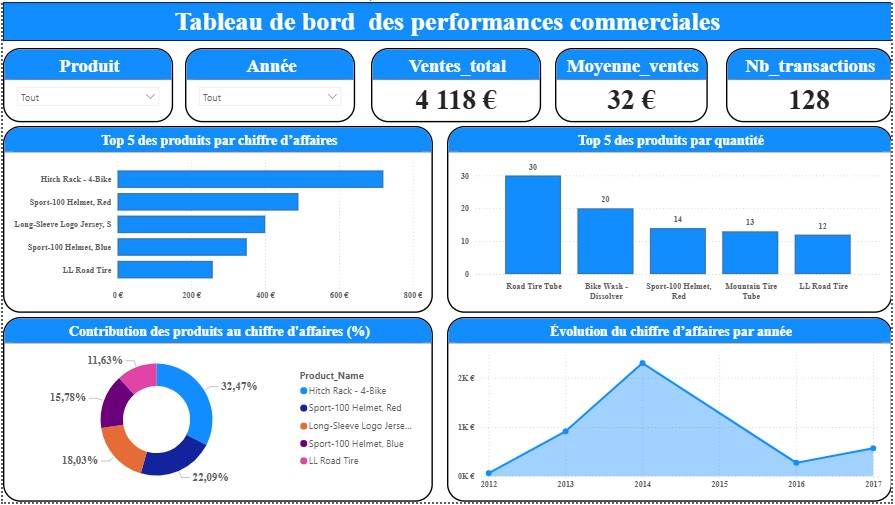

Layout of this report page (visuals, bound fields, positions):
{"tool":"powerbi","page":{"name":"Page 1","canvas":[1280,720],"ordinal":0},"visuals":[{"type":"card","title":"Nb_transactions","fields":{"Values":["Mesure.Nombre_Transactions"]},"box":[1041.1,66.2,239,106.6],"z":0},{"type":"card","title":" Ventes_total","fields":{"Values":["Mesure.Total_ventes"]},"box":[529.9,66.2,244.8,106.6],"z":1000},{"type":"card","title":"Moyenne_ventes","fields":{"Values":["Mesure.Moyenne_Ventes"]},"box":[794.9,66.2,220.3,106.6],"z":2000},{"type":"slicer","title":"Produit","fields":{"Values":["WorksSales.Product_Name"]},"box":[0,66.2,244.8,106.6],"z":3000},{"type":"slicer","title":"Année","fields":{"Values":["WorksSales.Année"]},"box":[262.1,66.2,244.8,106.6],"z":4000},{"type":"clusteredColumnChart","title":"Top 5 des produits par quantité","fields":{"Y":["Sum(WorksSales.Order_Qty)"],"Category":["WorksSales.Product_Name"]},"box":[639.4,178.6,640.8,269.3],"z":5000},{"type":"clusteredBarChart","title":"Top 5 des produits par chiffre d’affaires","fields":{"Y":["Mesure.Total_ventes"],"Category":["WorksSales.Product_Name"]},"box":[0,178.6,619.2,269.3],"z":6000},{"type":"textbox","box":[0,0,1280.2,56.2],"z":7000},{"type":"donutChart","title":"Contribution des produits au chiffre d''affaires (%)","fields":{"Category":["WorksSales.Product_Name"],"Y":["Mesure.Contribution_Ventes_%"]},"box":[0,453.6,619.2,266.4],"z":8000},{"type":"areaChart","title":"Évolution du chiffre d’affaires par année","fields":{"Category":["WorksSales.Année"],"Y":["Mesure.Total_ventes"]},"box":[639.4,453.6,640.8,266.4],"z":9000}]}

Visuals, with their boxes in screenshot pixels (x1, y1, x2, y2), scaled from the page's 1280x720 canvas onto the 895x505 screenshot:
"Nb_transactions" card: pyautogui.locateOnScreen(728, 46, 894, 121)
" Ventes_total" card: pyautogui.locateOnScreen(371, 46, 542, 121)
"Moyenne_ventes" card: pyautogui.locateOnScreen(556, 46, 710, 121)
"Produit" slicer: pyautogui.locateOnScreen(0, 46, 171, 121)
"Année" slicer: pyautogui.locateOnScreen(183, 46, 354, 121)
"Top 5 des produits par quantité" clusteredColumnChart: pyautogui.locateOnScreen(447, 125, 894, 314)
"Top 5 des produits par chiffre d’affaires" clusteredBarChart: pyautogui.locateOnScreen(0, 125, 433, 314)
textbox: pyautogui.locateOnScreen(0, 0, 894, 39)
"Contribution des produits au chiffre d''affaires (%)" donutChart: pyautogui.locateOnScreen(0, 318, 433, 504)
"Évolution du chiffre d’affaires par année" areaChart: pyautogui.locateOnScreen(447, 318, 894, 504)
